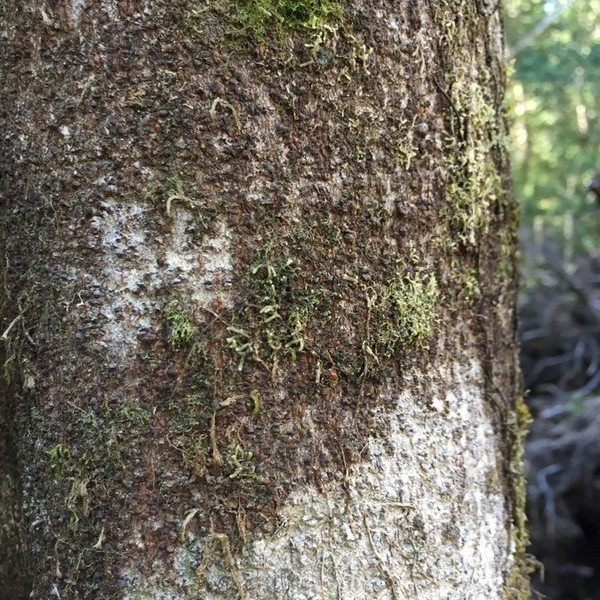obstacle: (0, 0, 527, 599)
